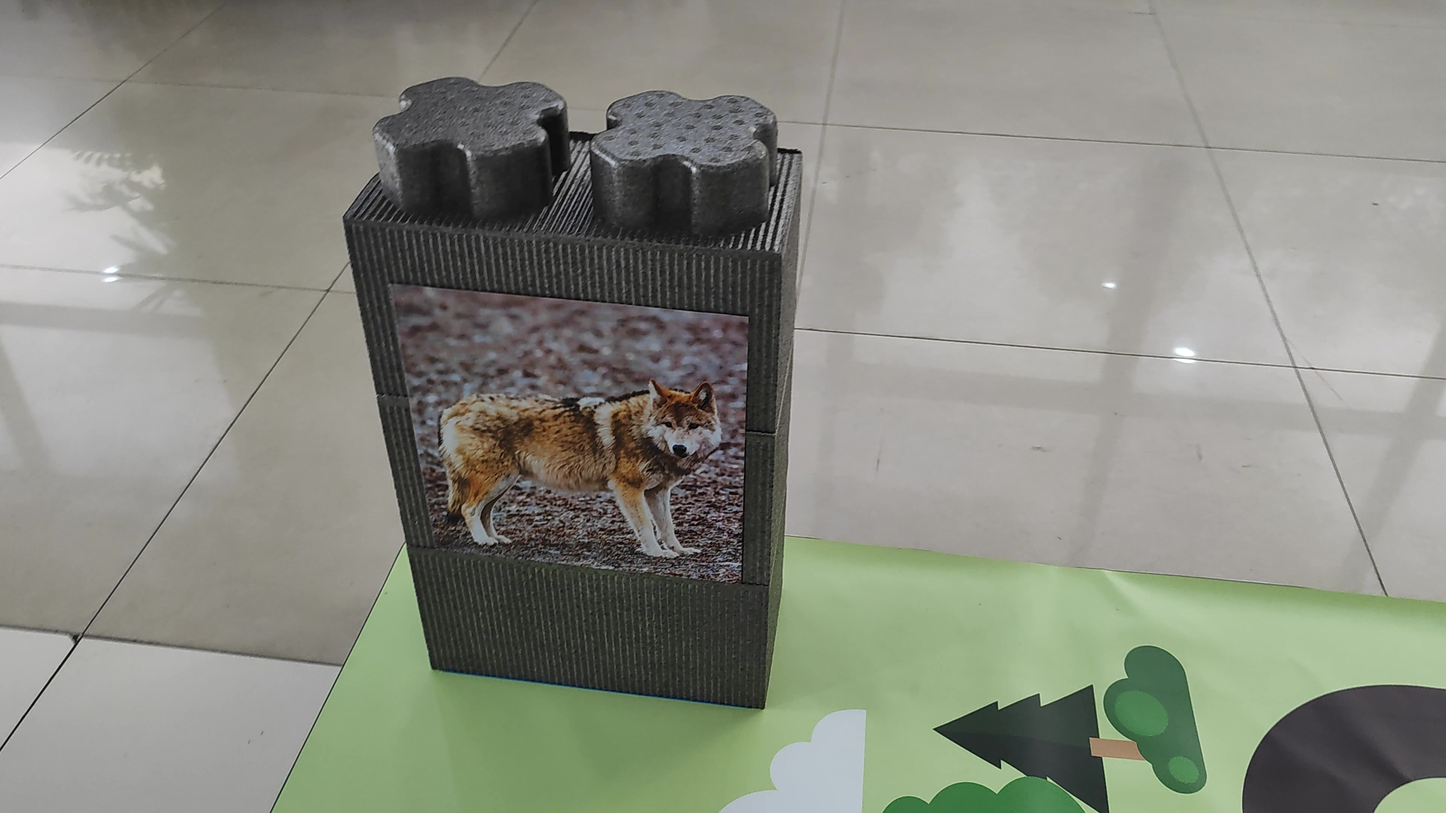wolf: (392, 346, 735, 575)
